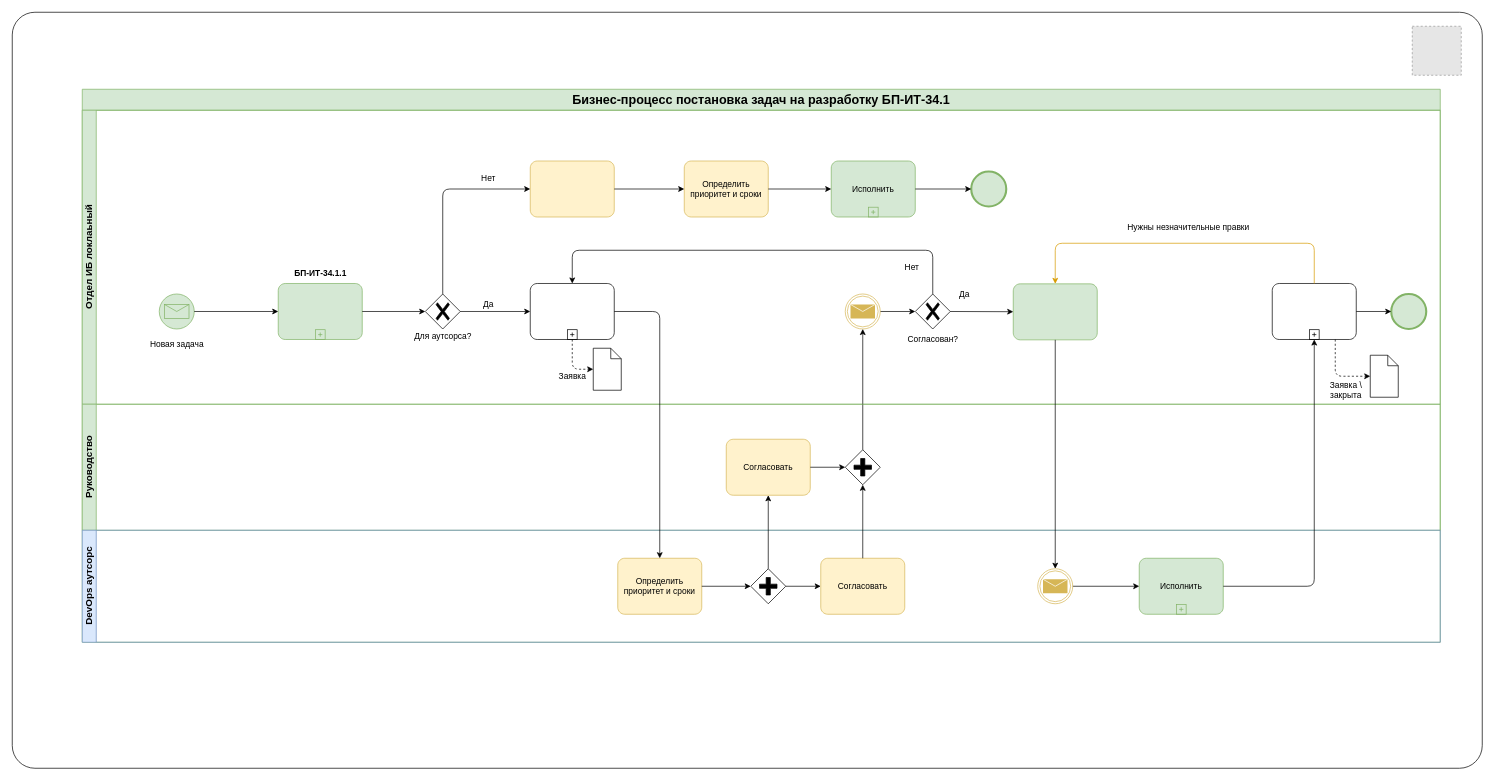
Image size: 1495x781. Some labels were removed from this diagram. Grey dashed boxes stand in for pictures. The centre of each missing label's shape, as x and y in pixels:
"Назначить исполнителя" goes at (572,188).
"Определить категорию и тип задачи" goes at (320,311).
"Оформить или отредактировать заявку" goes at (572,311).
"Передать в работу на аутсорс" goes at (1055,311).
"Проверить и подтвердить выполнение заявки" goes at (1314,311).
